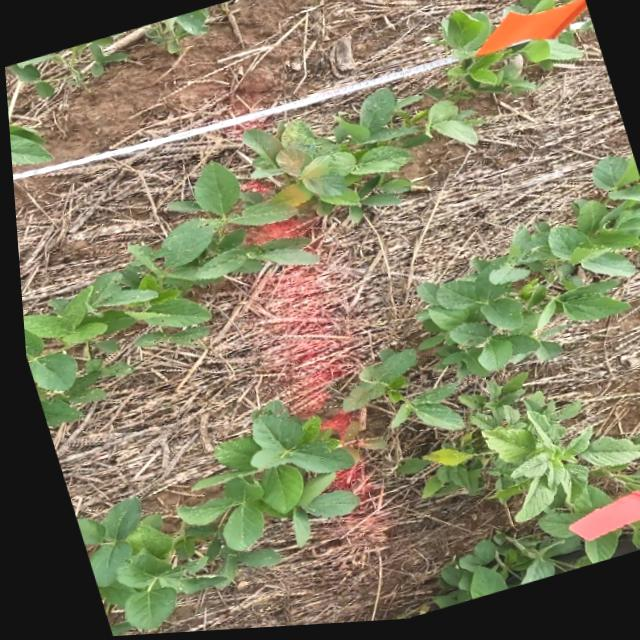caruru_weed: (405, 378, 640, 543)
soy_plant: (18, 88, 474, 424), (69, 403, 350, 630), (412, 163, 640, 382), (4, 9, 207, 164), (424, 527, 640, 613), (440, 15, 577, 96), (335, 354, 455, 434), (611, 475, 640, 498), (518, 0, 553, 19)
